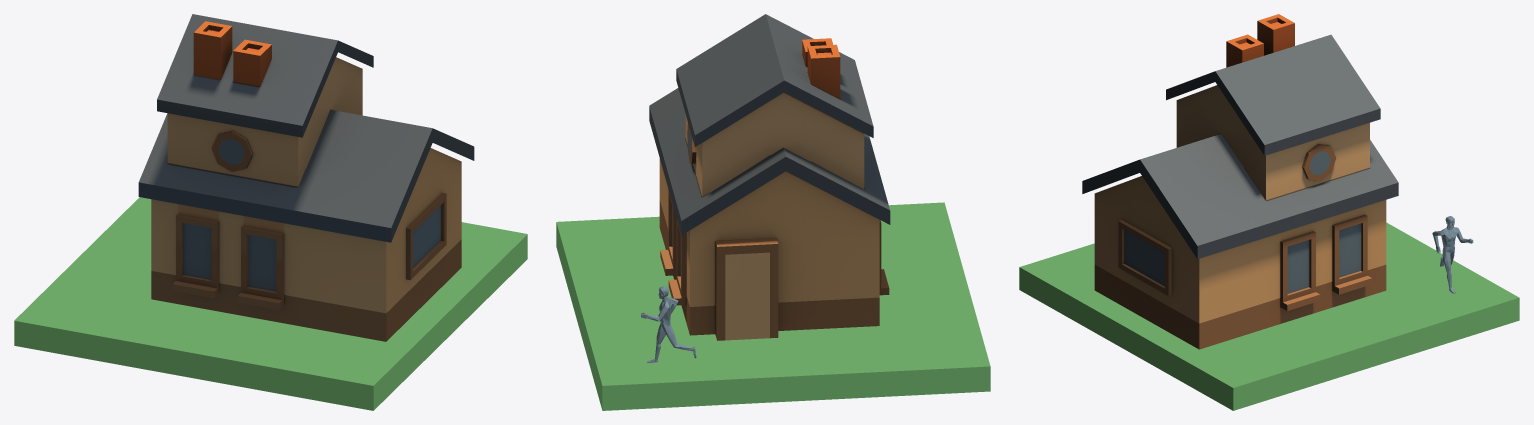
3 views of the same model, side by side, from view 1: azimuth 30°, elevation 25°; view 2: azimuth 150°, elevation 25°; view 3: azimuth 270°, elevation 25° (orthographic). The views are drawn at different scales.
Visible parts, largest first — view 1: group1502195547.002; view 2: group1502195547.002; view 3: group1502195547.002.
Boxes of the visible parts, x1,y1,x2,y2 form: group1502195547.002: (14,14,527,410); group1502195547.002: (556,14,990,410); group1502195547.002: (1019,14,1519,410).
Bounding box in the file's own units: 23.82 × 13.62 × 23.82.
4 materials, 1 textured.
